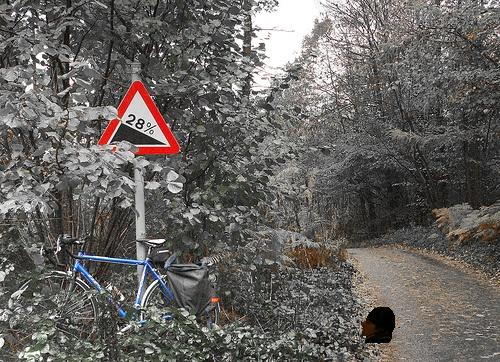tampered: (362, 308, 395, 343)
